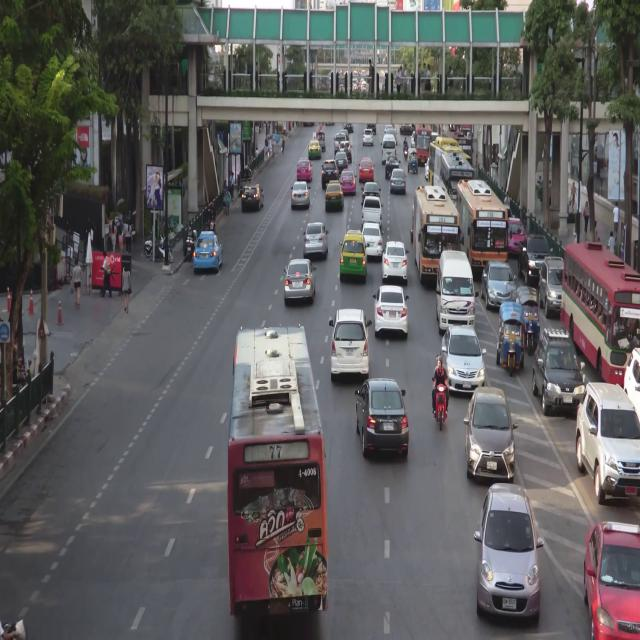bus: (232, 322, 327, 613), (563, 240, 640, 385), (413, 188, 459, 289), (457, 182, 507, 272), (429, 144, 471, 194), (440, 157, 473, 213), (446, 129, 473, 162), (415, 126, 432, 163)
car: (480, 481, 541, 619), (577, 383, 640, 499), (354, 375, 410, 461), (467, 389, 513, 478), (534, 329, 583, 412), (439, 254, 475, 332), (439, 329, 482, 394), (332, 308, 370, 378), (496, 303, 525, 375), (376, 281, 407, 335), (515, 287, 541, 347), (539, 256, 564, 314), (483, 263, 513, 305), (286, 260, 315, 301), (625, 347, 640, 416), (381, 239, 406, 277), (524, 238, 547, 278), (305, 222, 327, 257), (362, 223, 382, 256), (362, 197, 382, 228), (241, 184, 263, 209), (292, 181, 309, 208), (323, 160, 340, 185), (382, 136, 396, 165), (391, 169, 405, 194), (385, 156, 398, 177), (339, 141, 351, 162), (363, 182, 378, 198), (408, 150, 418, 173), (335, 133, 347, 152), (335, 153, 348, 169), (363, 130, 374, 145), (317, 131, 326, 149), (387, 130, 396, 141), (425, 157, 429, 179), (411, 131, 416, 147), (340, 131, 349, 139), (345, 124, 354, 132), (385, 125, 392, 133)
pedestrian: (72, 260, 82, 310), (122, 263, 131, 315), (102, 252, 112, 296), (125, 220, 132, 253), (613, 202, 619, 237), (111, 220, 117, 254), (584, 199, 589, 233), (571, 181, 576, 212), (226, 188, 231, 216), (609, 232, 615, 255), (118, 230, 124, 252), (230, 171, 234, 198), (505, 193, 510, 210), (272, 144, 275, 165), (265, 138, 268, 157), (282, 136, 285, 154), (223, 180, 227, 192), (268, 136, 270, 157), (255, 147, 259, 156), (270, 137, 272, 153)
taxi: (584, 517, 640, 639), (340, 234, 366, 279), (195, 231, 222, 270), (506, 220, 526, 255), (325, 181, 343, 210), (341, 170, 355, 194), (297, 159, 312, 181), (360, 158, 374, 180), (309, 140, 321, 159)
